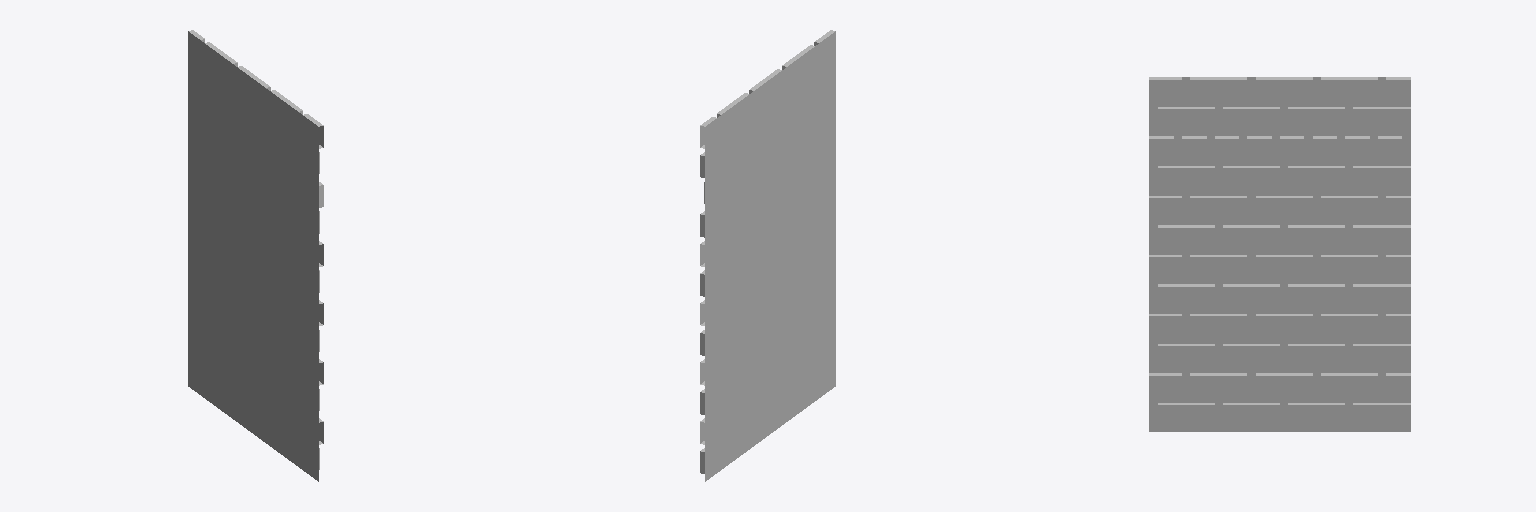
File: Brick_Wall.obj
3 renders of one model, left to right at view 1: azimuth 30°, elevation 25°; view 2: azimuth 150°, elevation 25°; view 3: azimuth 270°, elevation 25°, orthographic.
Visible parts, largest first — view 1: Brick_Wall_Plane.148; view 2: Brick_Wall_Plane.148; view 3: Brick_Wall_Plane.148.
Part boxes in pixels (bbox=[...]): Brick_Wall_Plane.148: bbox=[188, 30, 323, 481]; Brick_Wall_Plane.148: bbox=[700, 30, 835, 481]; Brick_Wall_Plane.148: bbox=[1149, 77, 1410, 431].
Size of the model in its own units: 0.0442 by 3 by 2.